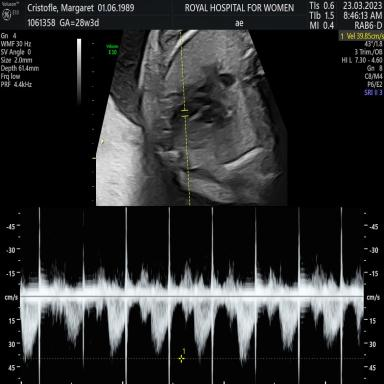Ultrasound-Waves: (21, 206, 363, 380)
